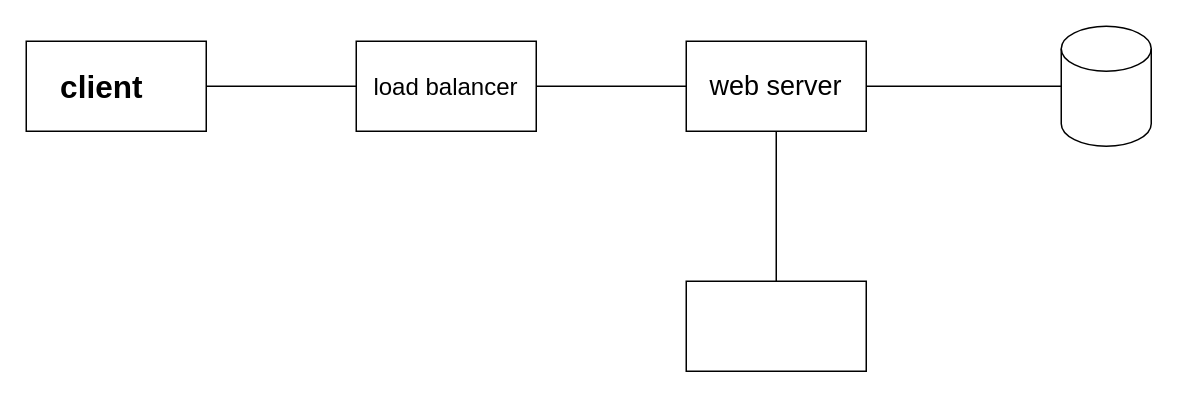
This 1178x398 diagram has some shape labels left out. The shapes that lost their labels are listed below. From the top down, each one's centre as x and y in pixels, then its label:
At point (1105, 85): "DB".
At point (775, 325): "redis".
